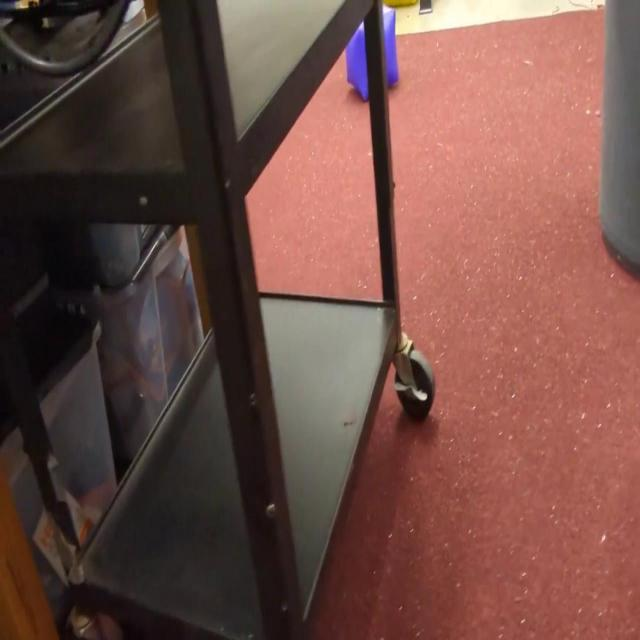frc_cube: (346, 3, 398, 101)
